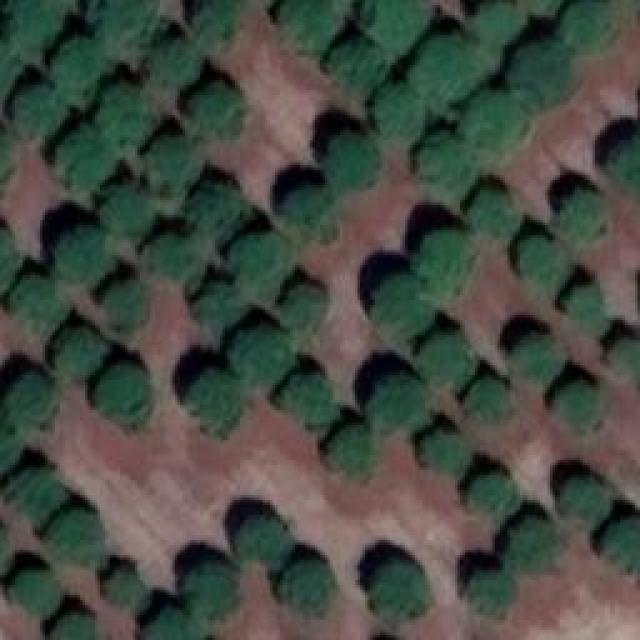Tree: (410, 38, 483, 121), (57, 125, 115, 193), (230, 330, 293, 390), (370, 275, 433, 335), (55, 40, 113, 105), (510, 45, 573, 103), (230, 235, 288, 295), (98, 365, 151, 430), (365, 0, 430, 52), (328, 43, 391, 96), (420, 135, 473, 198), (185, 370, 238, 433), (279, 0, 342, 52), (89, 0, 152, 52), (10, 467, 65, 525), (100, 85, 155, 143), (145, 135, 203, 190), (372, 563, 430, 618), (368, 380, 428, 433), (8, 0, 61, 58), (55, 228, 110, 283), (463, 95, 523, 145), (145, 235, 210, 280), (5, 375, 58, 430), (13, 280, 66, 335), (188, 183, 243, 236), (415, 235, 468, 290), (50, 513, 103, 566), (197, 282, 245, 340), (373, 85, 423, 140), (280, 375, 335, 425), (418, 338, 473, 388), (508, 333, 563, 383), (13, 85, 63, 138), (193, 83, 243, 136), (280, 563, 330, 616), (185, 563, 235, 616), (518, 235, 571, 285), (285, 185, 333, 240), (327, 135, 375, 185), (505, 523, 553, 573), (465, 478, 520, 521), (562, 0, 607, 52), (562, 477, 610, 525), (470, 190, 518, 238), (103, 183, 148, 233), (472, 0, 525, 42), (58, 332, 103, 380), (10, 570, 58, 615), (237, 518, 285, 563), (568, 283, 608, 336), (605, 518, 640, 578), (420, 433, 468, 476), (468, 570, 513, 615), (150, 43, 200, 83), (330, 428, 370, 478), (283, 285, 326, 330), (465, 378, 508, 423), (107, 283, 145, 333), (605, 140, 640, 193), (560, 190, 598, 238), (192, 0, 235, 42), (560, 383, 598, 426), (148, 612, 201, 640), (105, 573, 143, 606), (0, 420, 20, 480), (52, 615, 100, 640), (610, 340, 640, 375), (0, 227, 18, 285)
